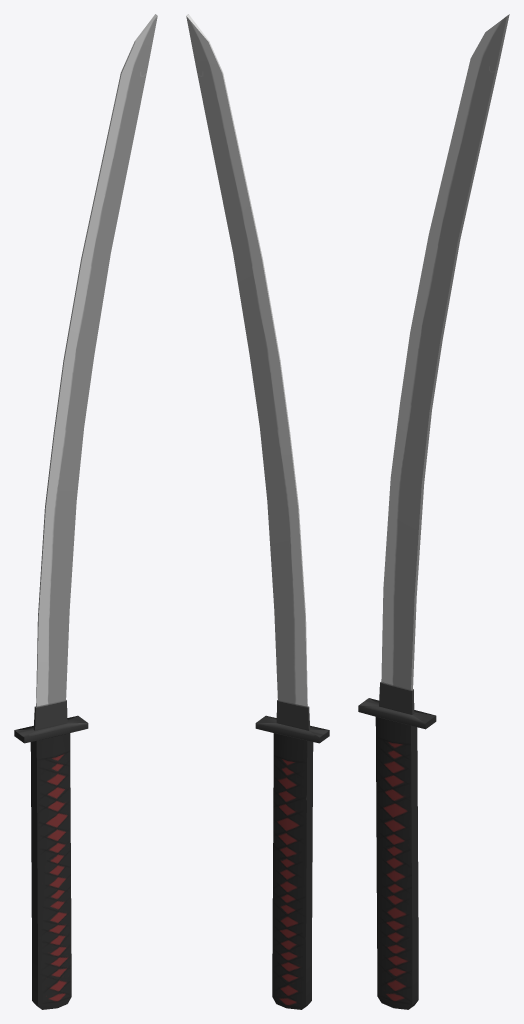
Rendered from katana.fbx.
3 renders of one model, left to right at view 1: azimuth 30°, elevation 25°; view 2: azimuth 150°, elevation 25°; view 3: azimuth 330°, elevation 25°, orthographic. The views are drawn at different scales.
Parts seen in each view (by area): view 1: katanasword; view 2: katanasword; view 3: katanasword.
Boxes of the visible parts, x1,y1,x2,y2 form: katanasword: (14,14,157,1009); katanasword: (186,14,329,1009); katanasword: (358,14,509,1009).
Size of the model in its own units: 1.72 by 11.55 by 0.2172.
Materials: 1 (1 with a texture image).
